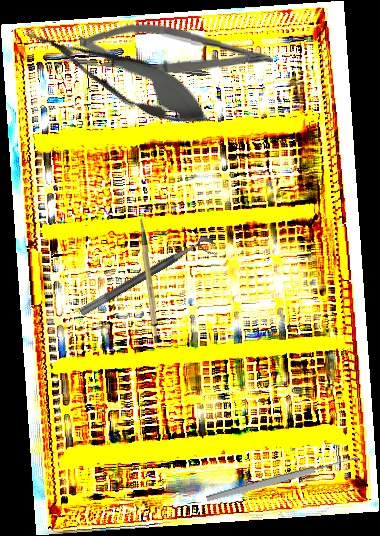Chopper: (53, 55, 207, 83)
Fixation Ring: (78, 233, 220, 328)
Micro Scissor: (13, 9, 222, 141), (79, 21, 274, 78)
Scalpel Handle: (137, 217, 164, 344)
Surgical Spoon: (205, 453, 360, 504)
